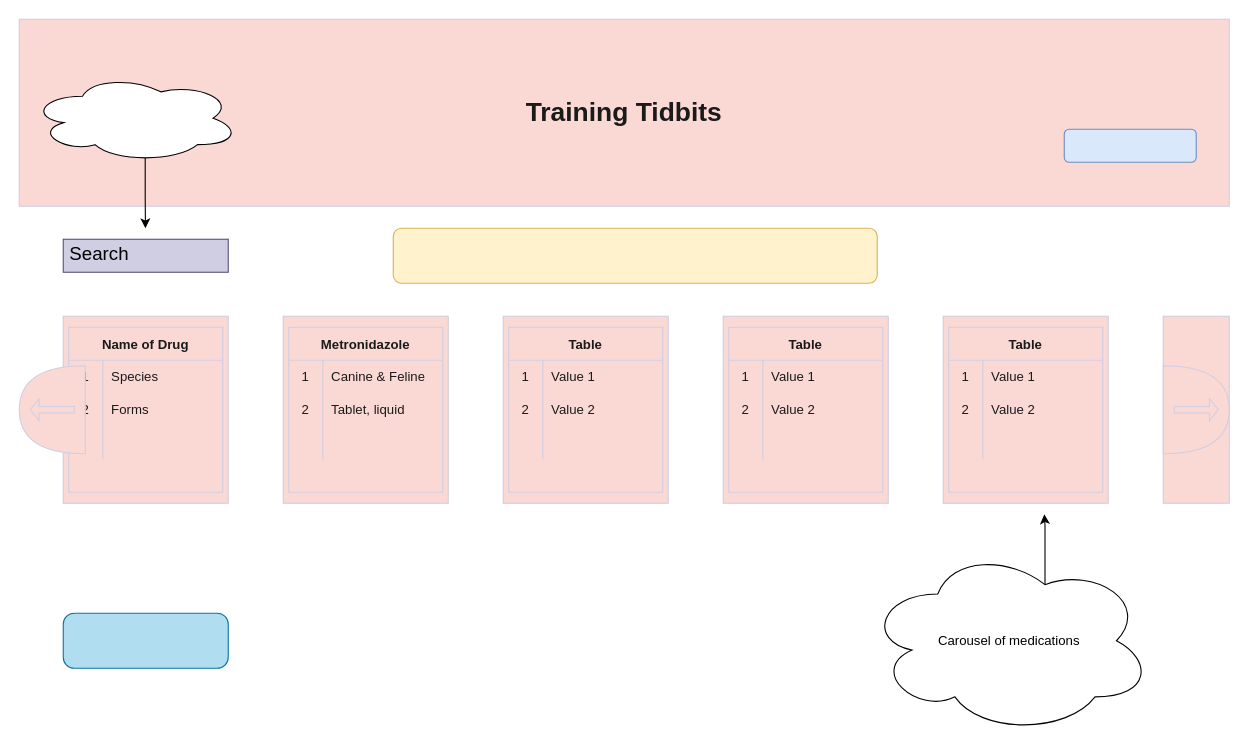
Some shapes in this 1249 by 754 pixel diagram are drawn without their labels. Here are the shapes that lost their labels. From the top down, the centre of each, then its label:
At pixel 134 117: "Search by name".
At pixel 1129 145: "LOGIN".
At pixel 634 255: "Commonly Prescribed Medications".
At pixel 145 640: "Submit New".
